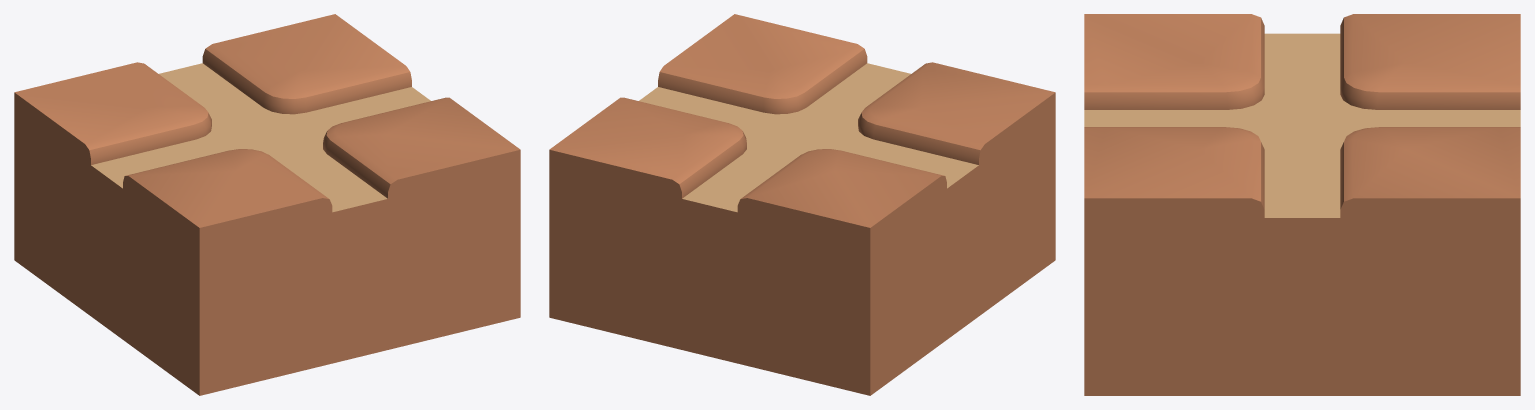
Rendered from square_rock_roadE.glb.
3 renders of one model, left to right at view 1: azimuth 30°, elevation 25°; view 2: azimuth 150°, elevation 25°; view 3: azimuth 270°, elevation 25°, orthographic. The views are drawn at different scales.
Parts seen in each view (by area): view 1: square_rock_roadE; view 2: square_rock_roadE; view 3: square_rock_roadE.
Part boxes in pixels (left/top/right/bottom): square_rock_roadE: left=14, top=14, right=520, bottom=395; square_rock_roadE: left=549, top=14, right=1055, bottom=395; square_rock_roadE: left=1084, top=14, right=1520, bottom=395.
Bounding box in the file's own units: 3.82 × 1.91 × 3.82.
